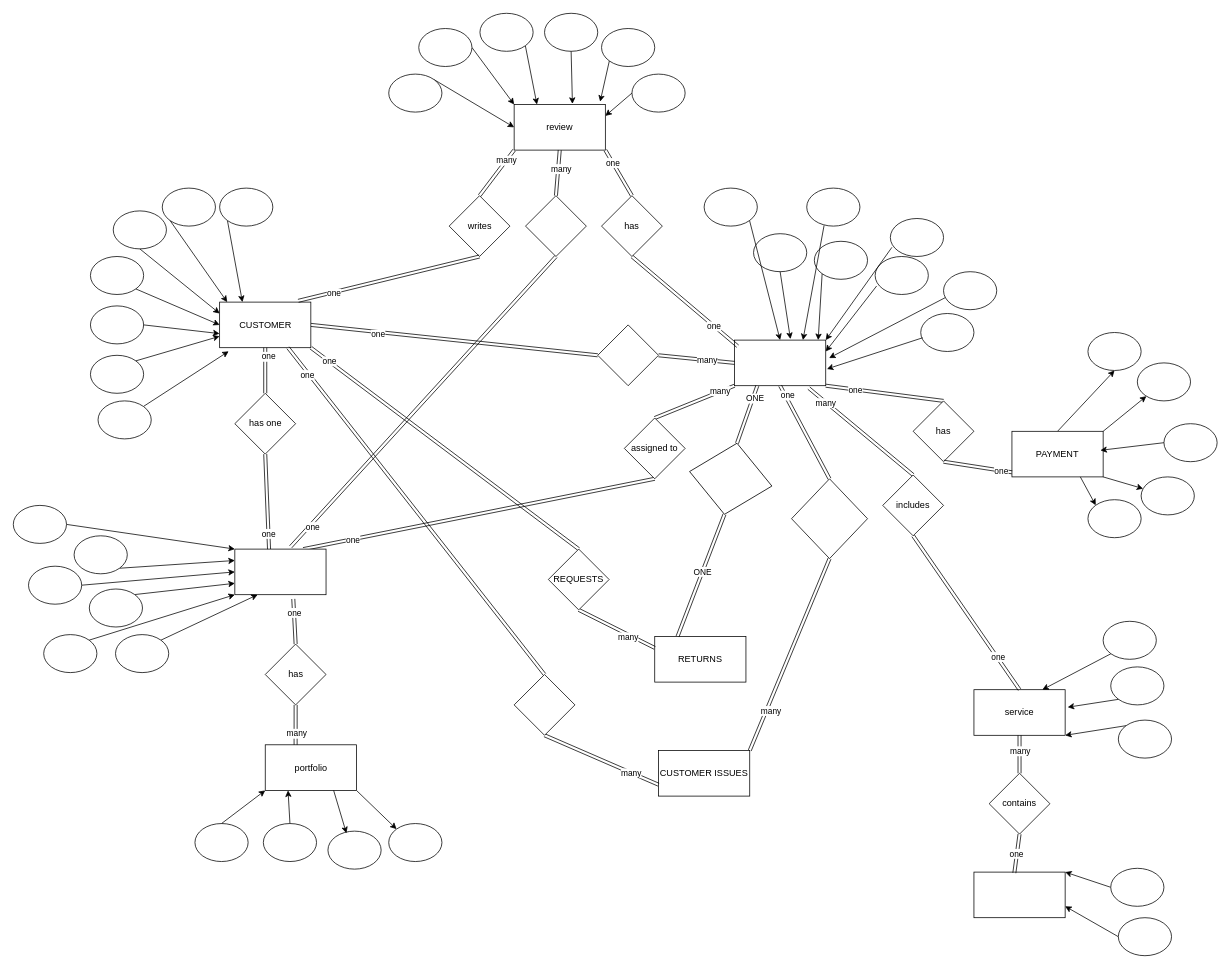
Image size: 1230x969. Some labels were removed from this diagram. The centre of each missing label's shape, as x and y in pixels:
"BOOKING" belongs at (780,362).
"CATEGORY" belongs at (1019,894).
"GENERATES" belongs at (730,478).
"makes" belongs at (628,355).
"receive" belongs at (555,225).
"RELATED TO" belongs at (829,518).
"REPORTS" belongs at (544,704).
"worker_profile" belongs at (280,571).
